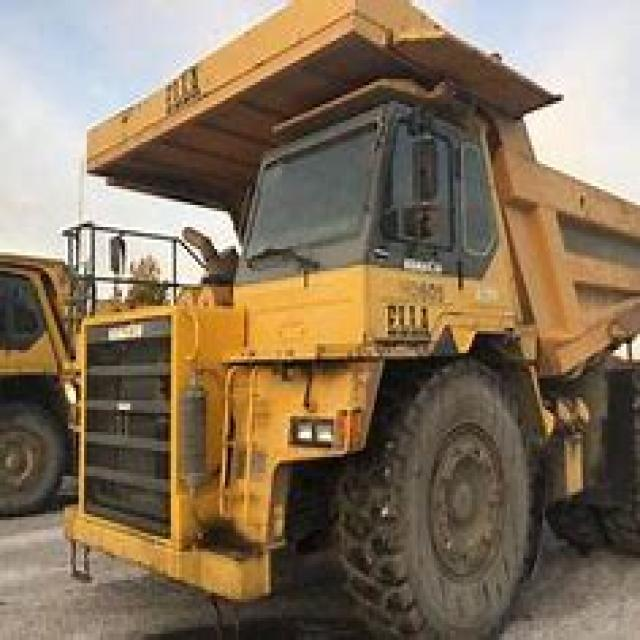dump_truck: (43, 3, 638, 618)
